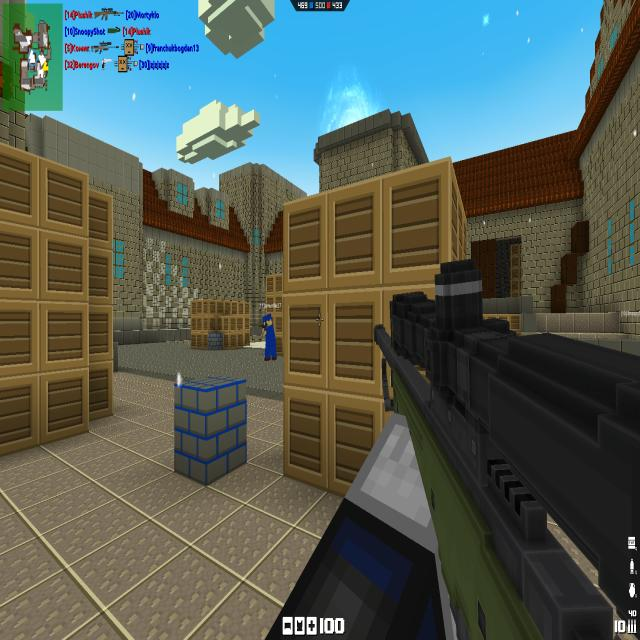player: (262, 313, 278, 362)
